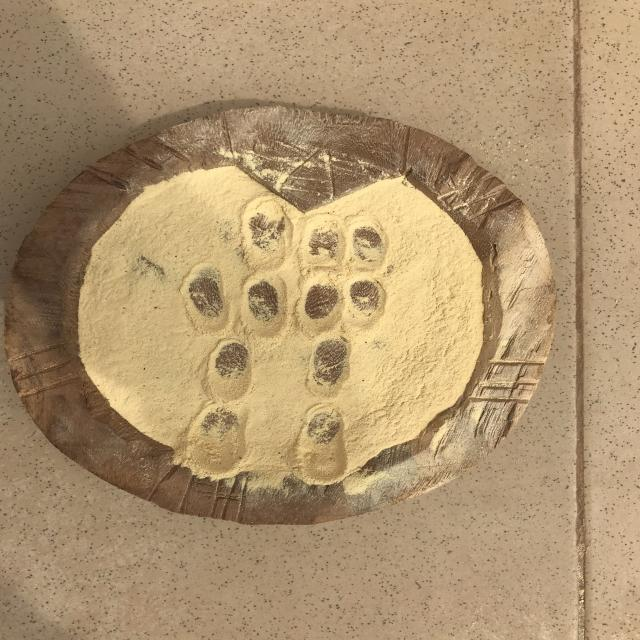double: (181, 264, 293, 346), (299, 270, 386, 338), (301, 214, 389, 274)
single: (184, 401, 250, 469), (237, 197, 294, 272), (198, 338, 258, 406), (297, 402, 349, 476), (305, 335, 353, 399)
